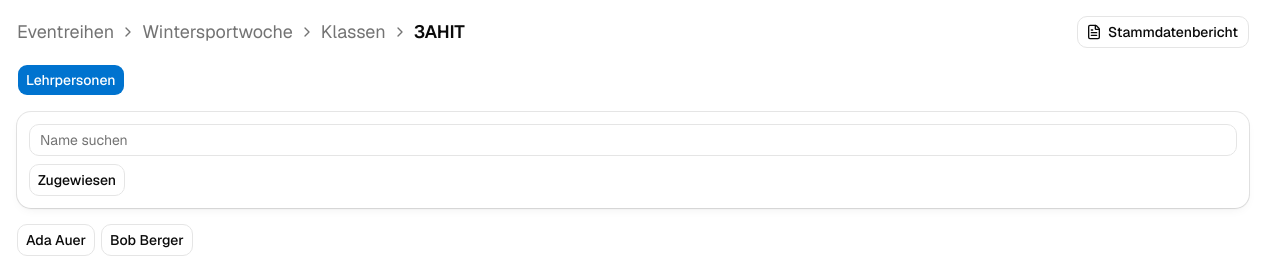
Scenario: ClassTeachersView — filtering › narrows to the name that was typed, matching first name, surname or address
In the field with placeholder "Name suchen": (633, 140) x1=29 y1=124 x2=1237 y2=156, type "berg"
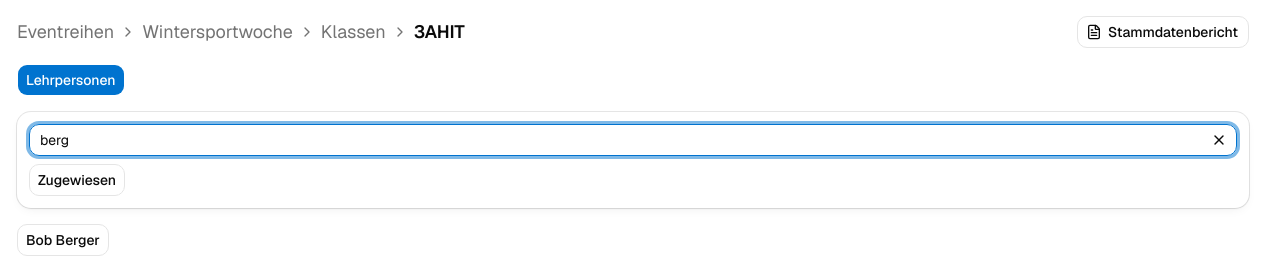
Expected: the button "Bob Berger" is shown, x1=24 y1=230 x2=102 y2=250
Now the button "Ada Auer" is gone
